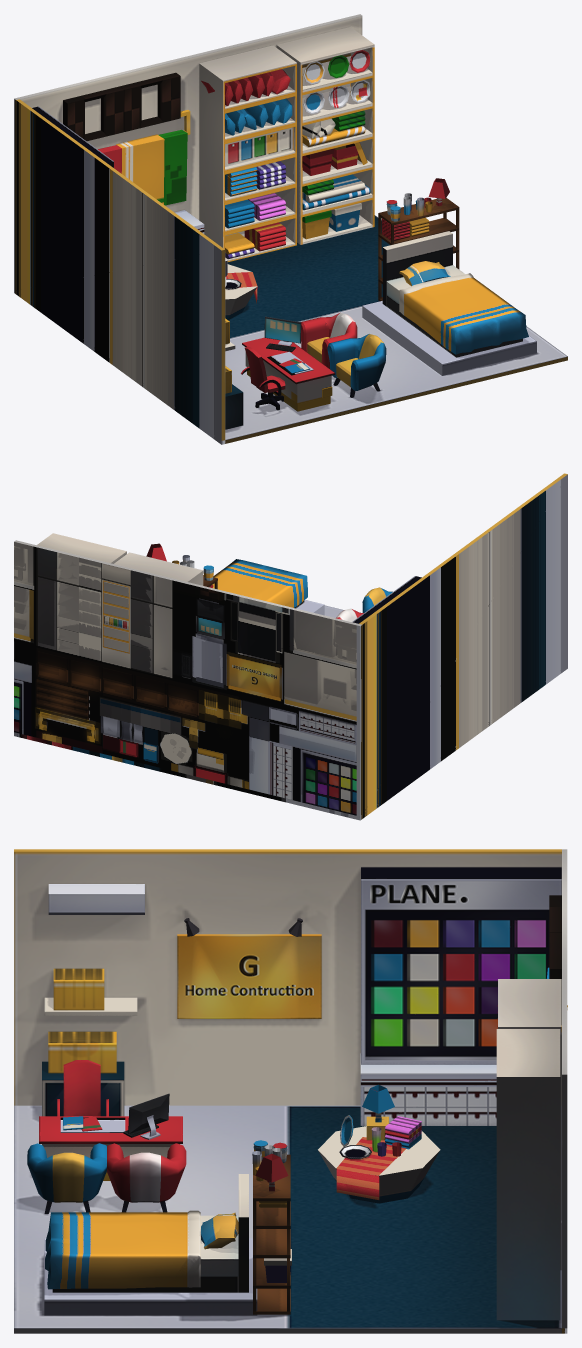
The model's file is Tx_Interior_Shop_HomeContruction_20170706.fbx.
The picture shows the model from 3 angles, top to bottom: view 1: azimuth 30°, elevation 25°; view 2: azimuth 150°, elevation 25°; view 3: azimuth 270°, elevation 25°; orthographic projection. The views are drawn at different scales.
Parts seen in each view (by area): view 1: Tex1_ori2, polySurface227; view 2: Tex1_ori2, polySurface227; view 3: Tex1_ori2, polySurface227.
Boxes of the visible parts, x1,y1,x2,y2 form: Tex1_ori2: (14, 14, 567, 444); polySurface227: (98, 50, 528, 429); Tex1_ori2: (14, 473, 567, 820); polySurface227: (146, 543, 307, 670); Tex1_ori2: (14, 849, 567, 1333); polySurface227: (42, 918, 567, 1289).
Size of the model in its own units: 41.6 by 22.3 by 43.24.
Materials: 3 (3 with a texture image).
